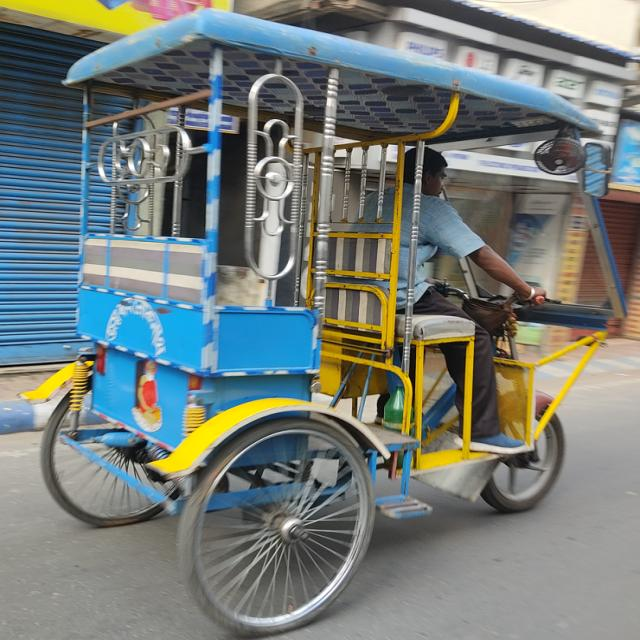rickshaw: (31, 4, 628, 640)
